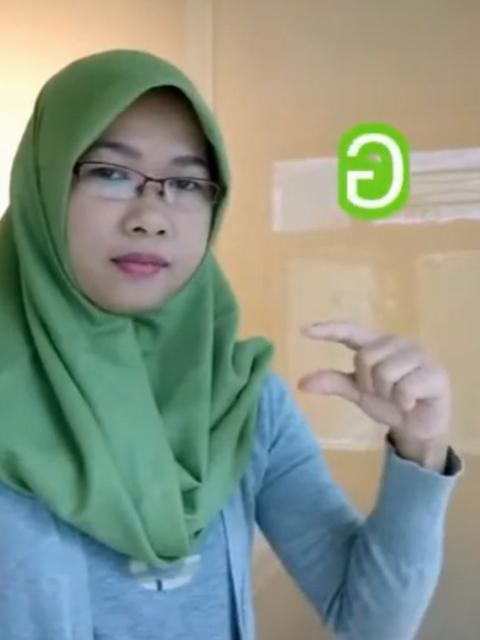G: (298, 317, 460, 437)
